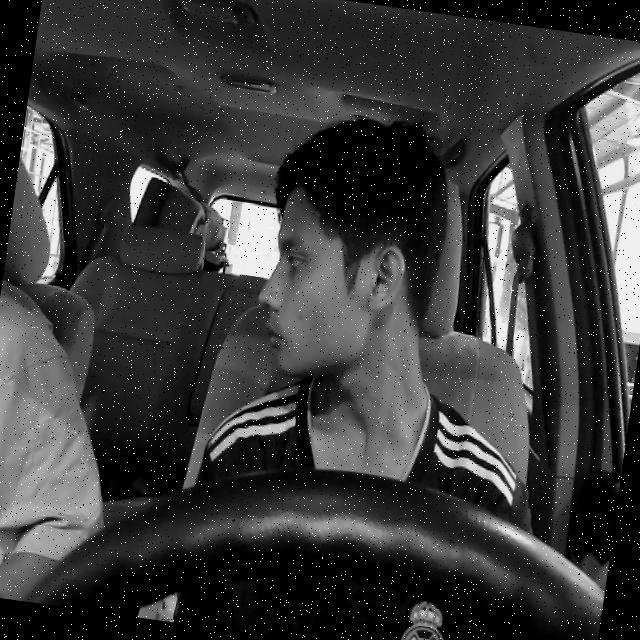seeing_left: (245, 178, 418, 392)
